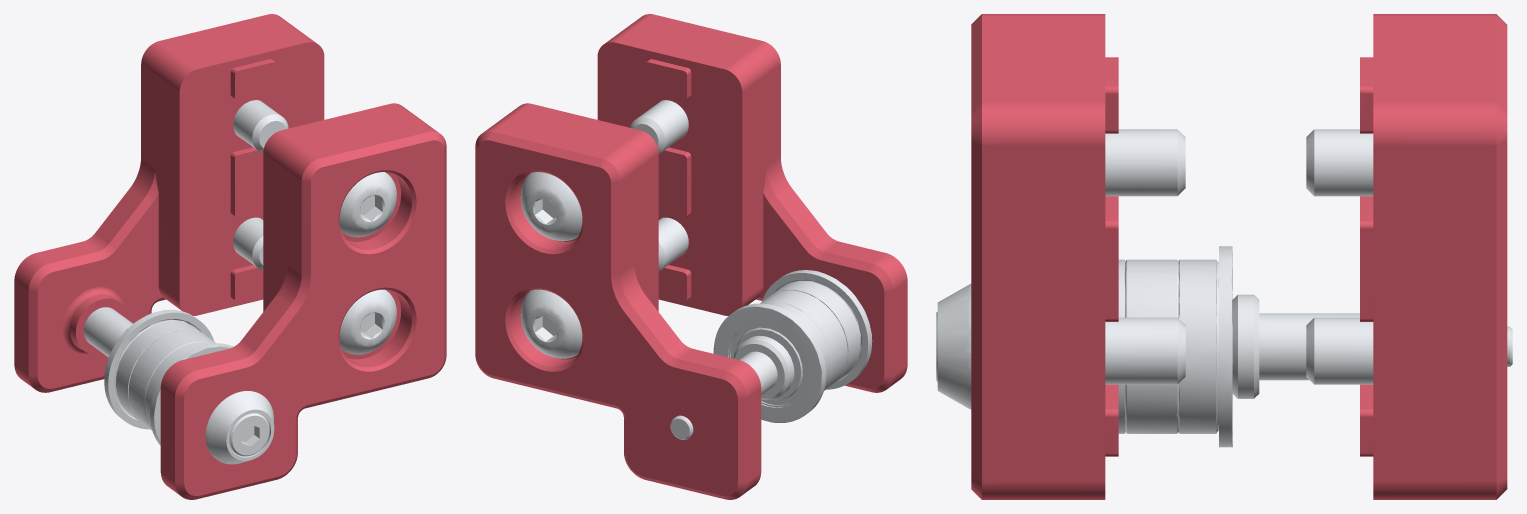
The picture shows the model from 3 angles, left to right: view 1: azimuth 30°, elevation 25°; view 2: azimuth 150°, elevation 25°; view 3: azimuth 270°, elevation 25°; orthographic projection. The views are drawn at different scales.
Visible parts, largest first — view 1: A前惰轮_1, A前惰轮, 轴承-F695ZZ_5, M5x12-圆头_9, M5x12-圆头, M3铝合金垫圈, 轴承-695ZZ, 轴承-F695ZZ, M5x12-圆头_11, 非标轴承柱, M3x40-杯头, M5x12-圆头_10; view 2: A前惰轮, A前惰轮_1, 轴承-F695ZZ_5, 轴承-F695ZZ, M5x12-圆头_10, M5x12-圆头_11, 非标轴承柱, 轴承-695ZZ, M5x12-圆头_9, M5x12-圆头; view 3: A前惰轮_1, A前惰轮, 轴承-F695ZZ_5, 非标轴承柱, 轴承-695ZZ, M5x12-圆头_9, M5x12-圆头, M5x12-圆头_11, M5x12-圆头_10, M3铝合金垫圈, 轴承-F695ZZ.
Boxes of the visible parts, <box> form: A前惰轮_1: <box>160,103,446,499</box>; A前惰轮: <box>14,14,324,392</box>; 轴承-F695ZZ_5: <box>104,309,214,429</box>; M5x12-圆头_9: <box>339,172,396,237</box>; M5x12-圆头: <box>339,289,396,354</box>; M3铝合金垫圈: <box>205,391,274,464</box>; 轴承-695ZZ: <box>128,330,215,430</box>; 轴承-F695ZZ: <box>145,342,233,445</box>; M5x12-圆头_11: <box>233,100,288,152</box>; 非标轴承柱: <box>83,307,132,357</box>; M3x40-杯头: <box>229,413,269,456</box>; M5x12-圆头_10: <box>233,217,263,270</box>; A前惰轮: <box>475,103,761,499</box>; A前惰轮_1: <box>597,14,907,392</box>; 轴承-F695ZZ_5: <box>713,302,831,422</box>; 轴承-F695ZZ: <box>762,270,872,389</box>; M5x12-圆头_10: <box>520,289,582,358</box>; M5x12-圆头_11: <box>520,172,582,241</box>; 非标轴承柱: <box>733,335,794,400</box>; 轴承-695ZZ: <box>760,290,847,390</box>; M5x12-圆头_9: <box>630,100,688,153</box>; M5x12-圆头: <box>658,217,688,271</box>; A前惰轮_1: <box>971,14,1118,499</box>; A前惰轮: <box>1360,14,1507,499</box>; 轴承-F695ZZ_5: <box>1179,246,1232,447</box>; 非标轴承柱: <box>1232,294,1359,398</box>; 轴承-695ZZ: <box>1125,259,1178,433</box>; M5x12-圆头_9: <box>1105,129,1185,196</box>; M5x12-圆头: <box>1105,317,1185,384</box>; M5x12-圆头_11: <box>1306,129,1373,196</box>; M5x12-圆头_10: <box>1306,317,1373,384</box>; M3铝合金垫圈: <box>937,284,971,409</box>; 轴承-F695ZZ: <box>1118,259,1125,433</box>.
Bounding box in the file's own units: 0.0375 × 0.041 × 0.043.
